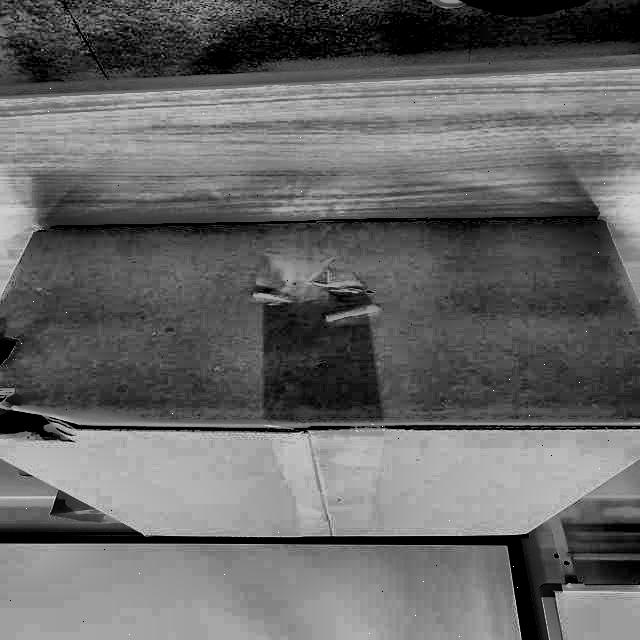box: (1, 202, 640, 548)
hole: (0, 399, 67, 436), (0, 329, 24, 362)
